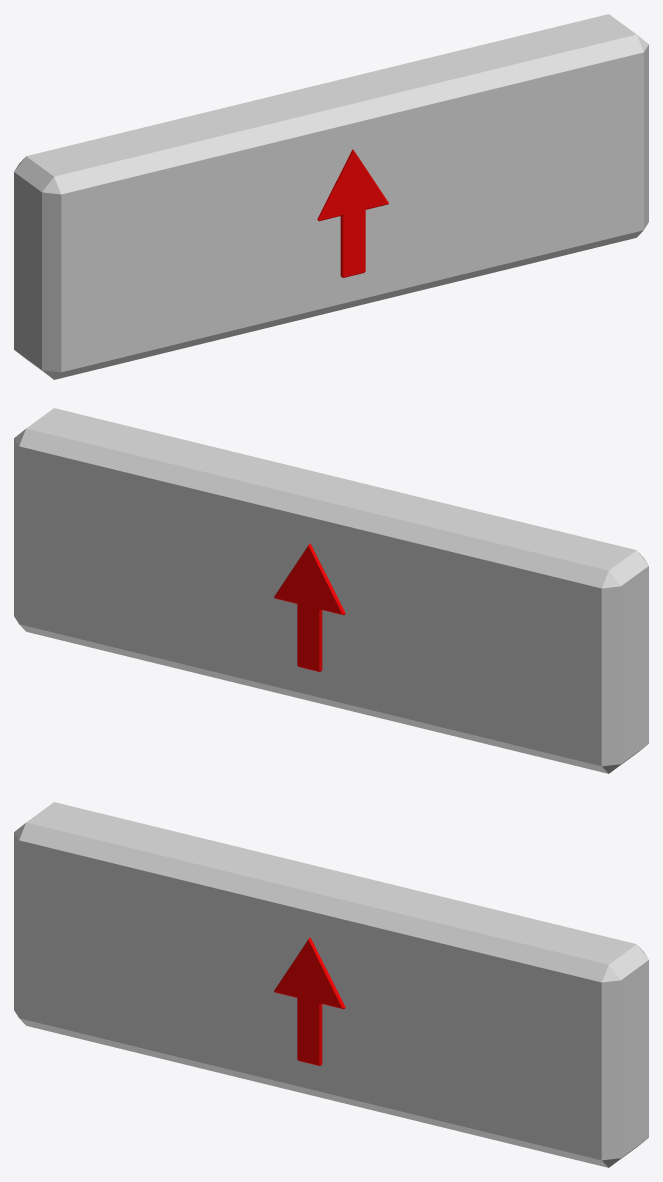
The model's file is obstacle_05.glb.
The picture shows the model from 3 angles, top to bottom: view 1: azimuth 30°, elevation 25°; view 2: azimuth 150°, elevation 25°; view 3: azimuth 330°, elevation 25°; orthographic projection.
Parts seen in each view (by area): view 1: Box001, arrow001; view 2: Box001, arrow002; view 3: Box001, arrow001.
Part boxes in pixels (x1,y1,x2,y2): Box001: [14, 14, 648, 379]; arrow001: [317, 149, 388, 277]; Box001: [14, 408, 648, 773]; arrow002: [274, 543, 345, 671]; Box001: [14, 802, 648, 1167]; arrow001: [274, 937, 345, 1065].
Size of the model in its own units: 2.5 by 0.8 by 0.328.
